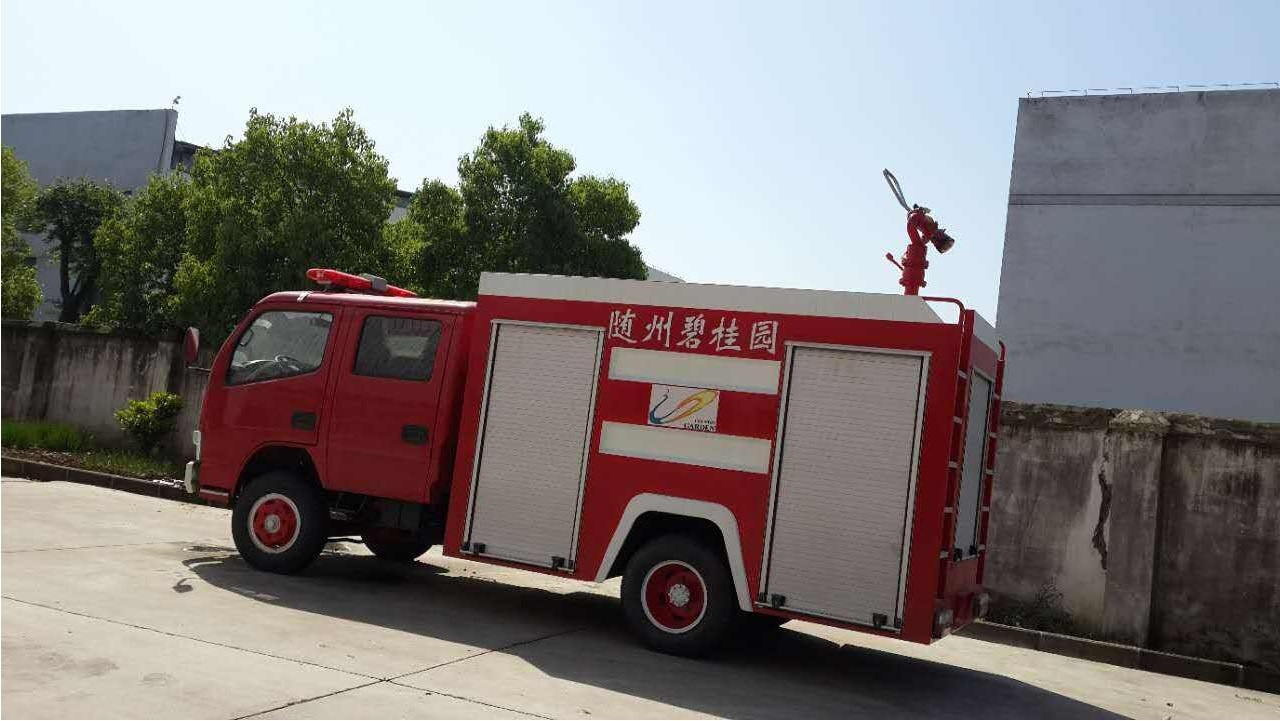fire engine: (187, 178, 997, 666)
